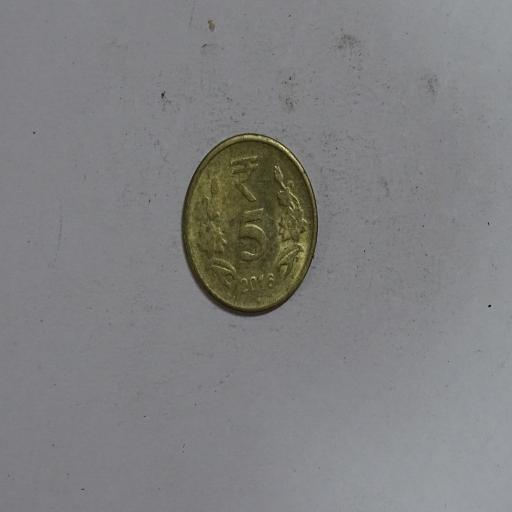rupee5: (178, 133, 319, 318)
